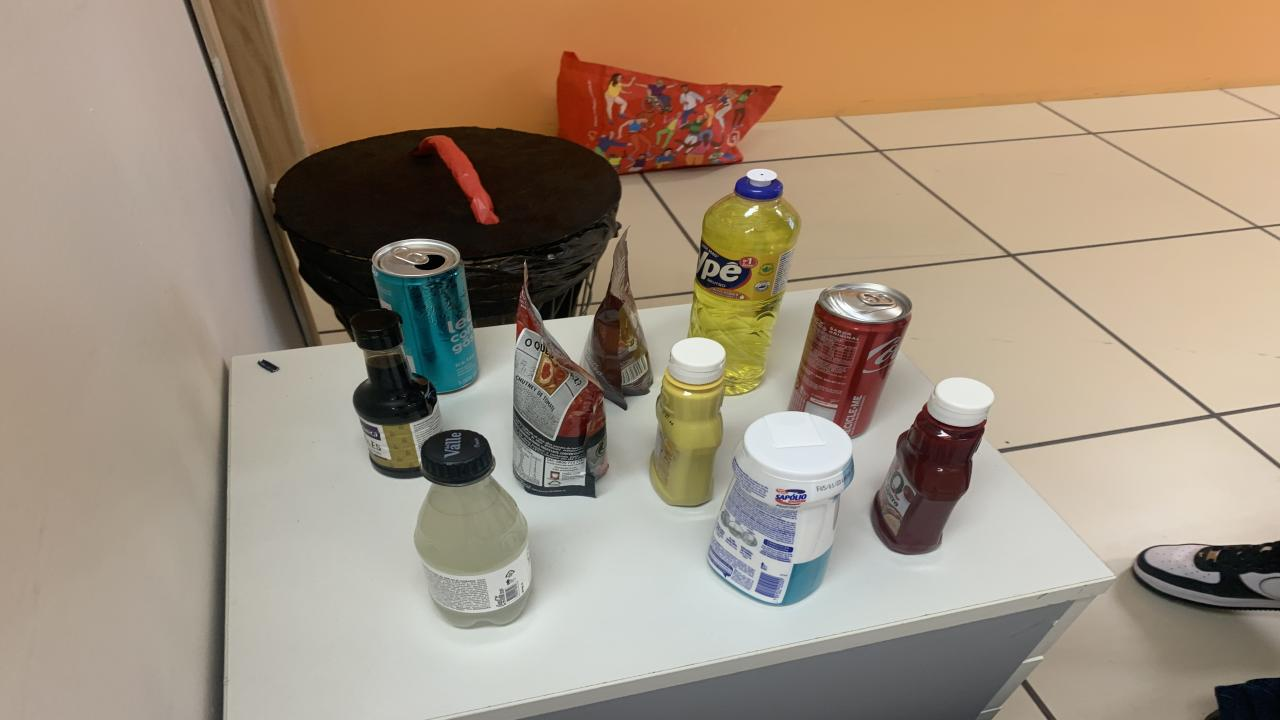Cleaner-Cleanup_Items: (708, 412, 852, 606)
Coffee-Pantry_Items: (582, 231, 652, 407)
Coke-Drinks: (790, 283, 912, 437)
Detergent-Cleanup_Items: (690, 169, 800, 396)
English_Sauce-Pantry_Items: (352, 309, 442, 478)
Ketchup-Pantry_Items: (872, 377, 995, 555)
Mustard-Pantry_Items: (650, 338, 725, 506)
Soda-Drinks: (415, 429, 530, 628)
Tea-Drinks: (372, 238, 478, 392)
Tomato_Sauce-Pantry_Items: (512, 285, 608, 497)
